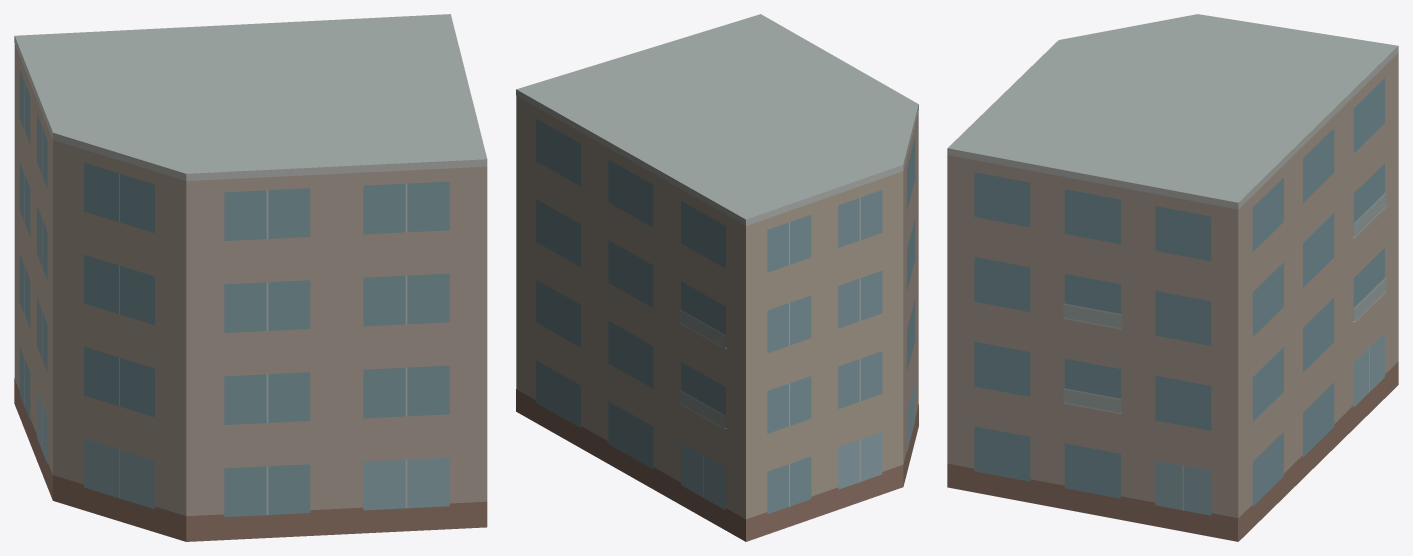
The model's file is survey-upis-32871840.glb.
3 views of the same model, side by side, from view 1: azimuth 30°, elevation 25°; view 2: azimuth 150°, elevation 25°; view 3: azimuth 270°, elevation 25° (orthographic). The views are drawn at different scales.
Visible parts, largest first — view 1: survey-upis-32871840.tmp; view 2: survey-upis-32871840.tmp; view 3: survey-upis-32871840.tmp.
Boxes of the visible parts, box(x1,y1,x2,y2) form: survey-upis-32871840.tmp: box(14, 14, 487, 541); survey-upis-32871840.tmp: box(516, 14, 918, 541); survey-upis-32871840.tmp: box(947, 14, 1398, 541).
Size of the model in its own units: 14.7 by 12.3 by 14.84.
